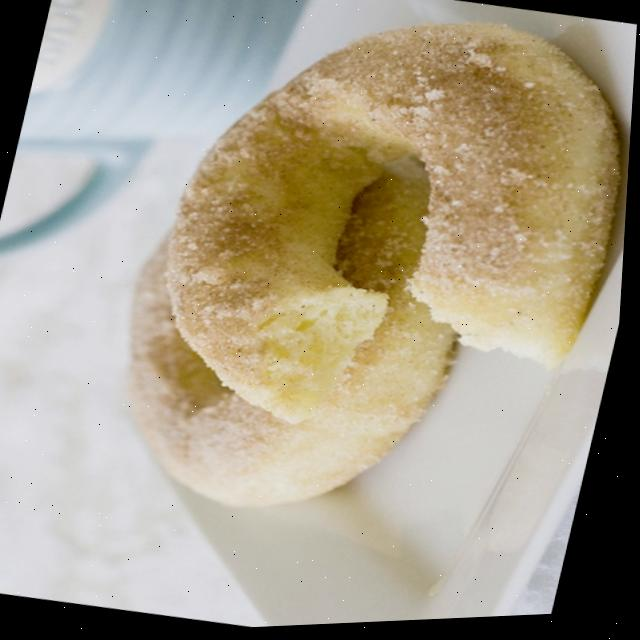炸货点心: (16, 0, 640, 591)
